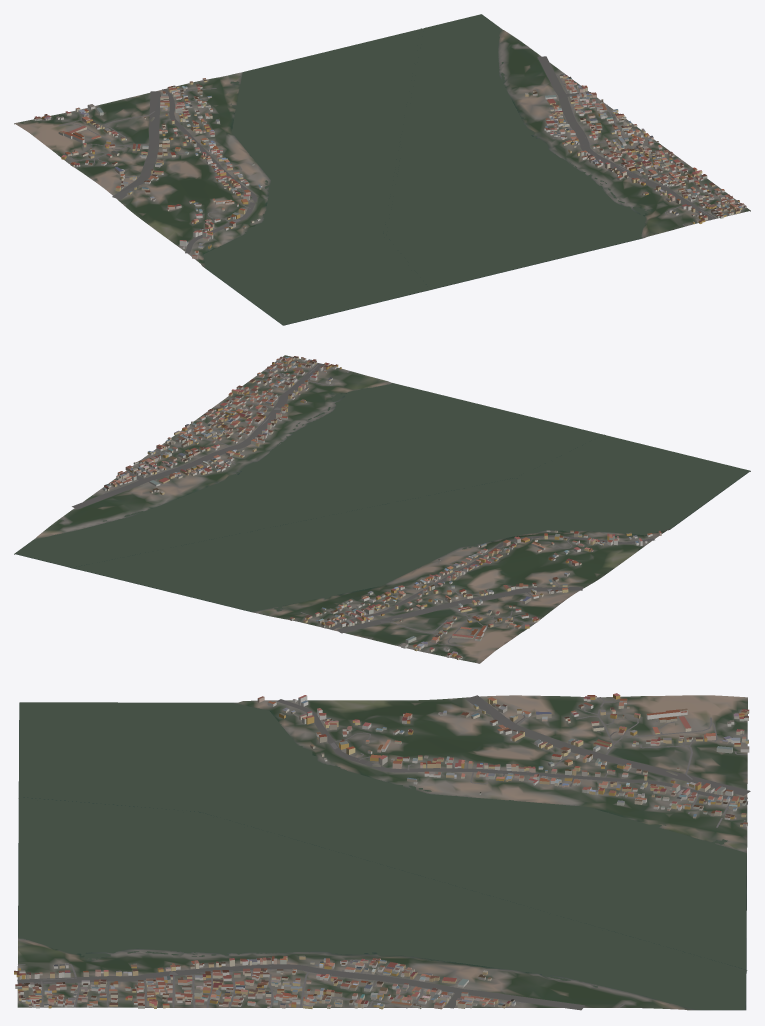
3 views of the same model, one above another, from view 1: azimuth 30°, elevation 25°; view 2: azimuth 150°, elevation 25°; view 3: azimuth 270°, elevation 25° (orthographic). The views are drawn at different scales.
Parts seen in each view (by area): view 1: water, ground, buildings, roads; view 2: water, ground, buildings, roads; view 3: water, ground, buildings, roads.
Boxes of the visible parts, bbox=[...] form: water: bbox=[203, 14, 651, 325]; ground: bbox=[14, 26, 750, 325]; buildings: bbox=[34, 74, 746, 258]; roads: bbox=[59, 46, 724, 253]; water: bbox=[15, 383, 749, 611]; ground: bbox=[14, 355, 750, 663]; buildings: bbox=[102, 356, 661, 659]; roads: bbox=[61, 362, 654, 658]; water: bbox=[18, 702, 747, 1009]; ground: bbox=[17, 695, 747, 1010]; buildings: bbox=[14, 693, 749, 1009]; roads: bbox=[17, 695, 750, 1010].
Size of the model in its own units: 1417 by 25.8 by 1418.
